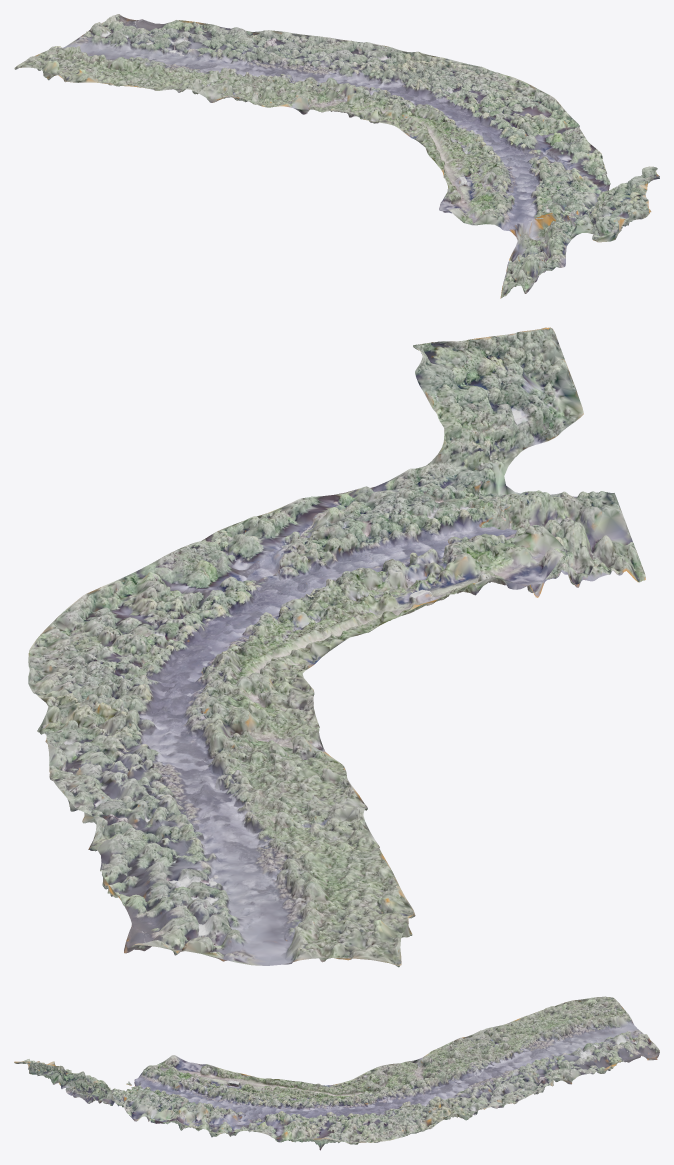
Rendered from scene_lite.glb.
The picture shows the model from 3 angles, top to bottom: view 1: azimuth 30°, elevation 25°; view 2: azimuth 150°, elevation 25°; view 3: azimuth 270°, elevation 25°; orthographic projection. The views are drawn at different scales.
Parts seen in each view (by area): view 1: model; view 2: model; view 3: model.
Part boxes in pixels (<box>): model: <box>14,14,659,298</box>; model: <box>28,327,645,967</box>; model: <box>14,996,659,1150</box>.
Size of the model in its own units: 474 by 126 by 872.
